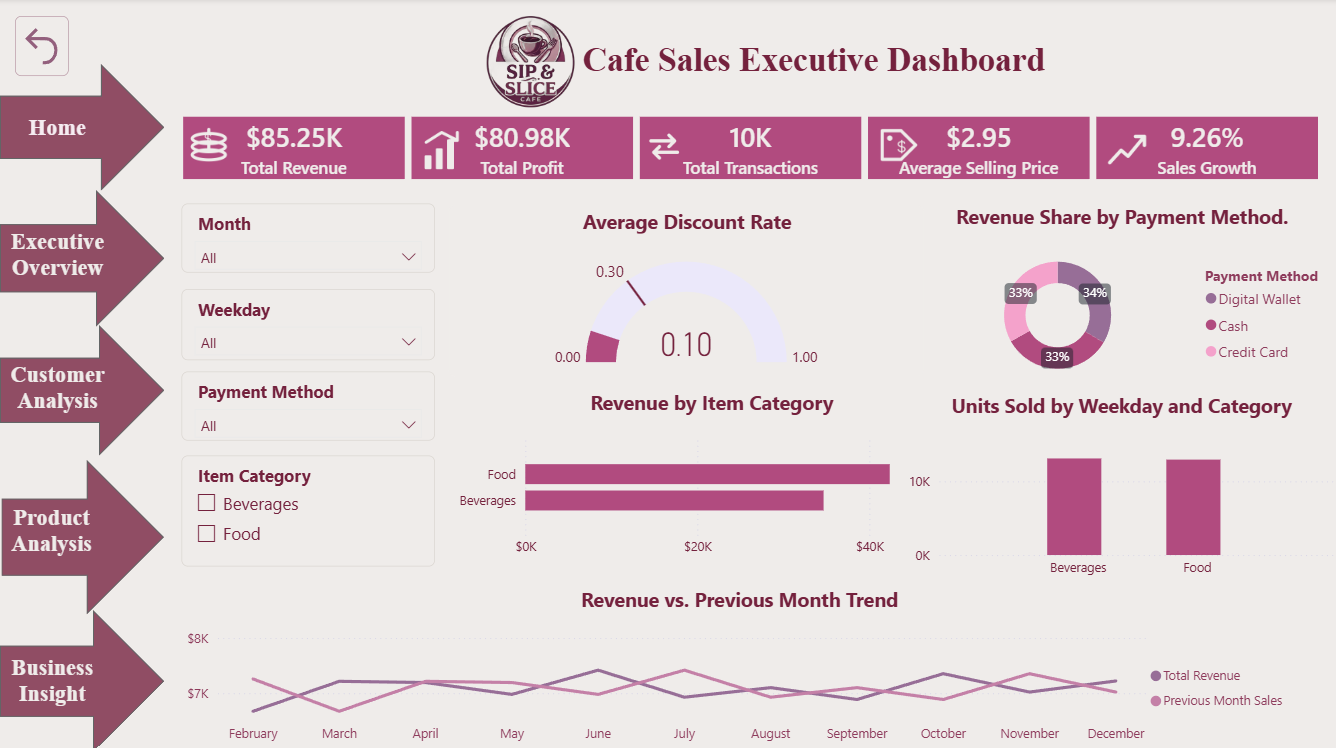

What the dashboard file says about the page in this screenshot:
{"tool":"powerbi","page":{"name":"Executive Overview","canvas":[1280,720],"ordinal":1},"visuals":[{"type":"group","id":"g1","title":"Group 5","box":[0,62.4,156.9,120.9],"z":0,"group":"g6"},{"type":"cardVisual","fields":{"Data":["_Measures.Total Revenue","_Measures.Total Profit","_Measures.Total Transactions","_Measures.Average Selling Price","_Measures.Sales Growth"]},"box":[156.9,96.4,1122.5,94.5],"z":0,"group":"g8"},{"type":"image","box":[173.9,104,49.1,66.1],"z":0,"group":"g9"},{"type":"lineChart","title":"Revenue vs. Previous Month Trend","fields":{"Category":["Dim_Date.Month"],"Y":["_Measures.Total Revenue","_Measures.Previous Month Sales"]},"box":[173.9,561.3,1065.8,158.7],"z":0},{"type":"image","box":[391.2,122.9,58.6,47.2],"z":1000,"group":"g9"},{"type":"group","id":"g2","title":"Group 6","box":[0,183.3,156.9,130.4],"z":1000,"group":"g6"},{"type":"barChart","title":"\tRevenue by Item Category","fields":{"Category":["Cafe_Sales.Item Category"],"Y":["_Measures.Total Revenue"]},"box":[429,374.2,502.7,168.2],"z":1000},{"type":"image","box":[610.4,115.3,45.4,54.8],"z":2000,"group":"g9"},{"type":"group","id":"g3","title":"Group 7","box":[0,311.9,156.9,124.7],"z":2000,"group":"g6"},{"type":"clusteredColumnChart","title":"Units Sold by Weekday and Category","fields":{"Category":["Dim_Date.Weekday","Cafe_Sales.Item Category"],"Y":["_Measures.Total Units Sold"]},"box":[861.7,376.1,417.6,185.2],"z":2000},{"type":"image","box":[831.5,115.3,51,54.8],"z":3000,"group":"g9"},{"type":"donutChart","title":"Revenue Share by Payment Method.","fields":{"Category":["Cafe_Sales.Payment Method"],"Y":["_Measures.Total Revenue"]},"box":[863.6,196.5,415.8,177.6],"z":3000},{"type":"group","id":"g4","title":"Group 8","box":[0,584,156.9,136.1],"z":3000,"group":"g6"},{"type":"image","box":[1048.9,122.9,52.9,47.2],"z":4000,"group":"g9"},{"type":"gauge","title":"Average Discount Rate","fields":{"Y":["_Measures.Discount Rate"]},"box":[428.2,197.2,454.1,163.3],"z":4000},{"type":"group","id":"g5","title":"Group 9","box":[0,440.4,156.9,147.4],"z":4000,"group":"g6"},{"type":"slicer","fields":{"Values":["Dim_Date.Month"]},"box":[173.9,196.5,241.9,66.1],"z":5000},{"type":"slicer","fields":{"Values":["Cafe_Sales.Item Category"]},"box":[173.9,436.5,241.9,105.8],"z":6000},{"type":"slicer","fields":{"Values":["Cafe_Sales.Payment Method"]},"box":[173.9,357.2,241.9,66.1],"z":7000},{"type":"slicer","fields":{"Values":["Dim_Date.Weekday"]},"box":[173.9,277.8,241.9,68],"z":8000},{"type":"group","id":"g6","title":"Group 1","box":[0,62.4,156.9,657.6],"z":9000},{"type":"group","id":"g7","title":"Group 2","box":[273.6,17.2,1007,87.4],"z":10000},{"type":"group","id":"g8","title":"Group 4","box":[156.9,96.4,1122.5,94.5],"z":11000},{"type":"group","id":"g9","title":"Group 3","box":[173.9,104,927.9,66.1],"z":11006,"group":"g8"},{"type":"actionButton","box":[0,0,51.5,57.5],"z":12000},{"type":"textbox","box":[273.6,17.2,1007,87.4],"z":17000,"group":"g7"},{"type":"image","box":[415.3,17.2,183.3,87.4],"z":18000,"group":"g7"},{"type":"shape","box":[0,584,156.9,136.1],"z":19000,"group":"g4"},{"type":"shape","box":[0,62.4,156.9,120.9],"z":20000,"group":"g1"},{"type":"shape","box":[0,311.9,156.9,124.7],"z":21000,"group":"g3"},{"type":"shape","box":[0,183.3,156.9,130.4],"z":22000,"group":"g2"},{"type":"shape","box":[1.7,440.4,155.1,147.4],"z":23000,"group":"g5"},{"type":"textbox","box":[0,104.9,109.6,39.7],"z":23005,"group":"g1"},{"type":"textbox","box":[0,214.4,110,64.2],"z":23007,"group":"g2"},{"type":"textbox","box":[0,342.1,110,66.4],"z":23009,"group":"g3"},{"type":"textbox","box":[0,477.4,98.8,64.1],"z":23011,"group":"g5"},{"type":"textbox","box":[0,620.9,100.2,70],"z":23012,"group":"g4"}]}

Visuals, with their boxes in screenshot pixels (x1, y1, x2, y2), scaled from the page's 1280x720 canvas onto the 1336x748 screenshot:
"Group 5" group: x1=0 y1=65 x2=164 y2=190
cardVisual - _Measures.Total Revenue x _Measures.Total Profit: x1=164 y1=100 x2=1335 y2=198
image: x1=182 y1=108 x2=233 y2=177
"Revenue vs. Previous Month Trend" lineChart: x1=182 y1=583 x2=1294 y2=747
image: x1=408 y1=128 x2=469 y2=177
"Group 6" group: x1=0 y1=190 x2=164 y2=326
"	Revenue by Item Category" barChart: x1=448 y1=389 x2=972 y2=563
image: x1=637 y1=120 x2=684 y2=177
"Group 7" group: x1=0 y1=324 x2=164 y2=454
"Units Sold by Weekday and Category" clusteredColumnChart: x1=899 y1=391 x2=1335 y2=583
image: x1=868 y1=120 x2=921 y2=177
"Revenue Share by Payment Method." donutChart: x1=901 y1=204 x2=1335 y2=389
"Group 8" group: x1=0 y1=607 x2=164 y2=747
image: x1=1095 y1=128 x2=1150 y2=177
"Average Discount Rate" gauge: x1=447 y1=205 x2=921 y2=375
"Group 9" group: x1=0 y1=458 x2=164 y2=611
slicer - Dim_Date.Month: x1=182 y1=204 x2=434 y2=273
slicer - Cafe_Sales.Item Category: x1=182 y1=453 x2=434 y2=563
slicer - Cafe_Sales.Payment Method: x1=182 y1=371 x2=434 y2=440
slicer - Dim_Date.Weekday: x1=182 y1=289 x2=434 y2=359
"Group 1" group: x1=0 y1=65 x2=164 y2=747
"Group 2" group: x1=286 y1=18 x2=1335 y2=109
"Group 4" group: x1=164 y1=100 x2=1335 y2=198
"Group 3" group: x1=182 y1=108 x2=1150 y2=177
actionButton: x1=0 y1=0 x2=54 y2=60
textbox: x1=286 y1=18 x2=1335 y2=109
image: x1=433 y1=18 x2=625 y2=109
shape: x1=0 y1=607 x2=164 y2=747
shape: x1=0 y1=65 x2=164 y2=190
shape: x1=0 y1=324 x2=164 y2=454
shape: x1=0 y1=190 x2=164 y2=326
shape: x1=2 y1=458 x2=164 y2=611
textbox: x1=0 y1=109 x2=114 y2=150
textbox: x1=0 y1=223 x2=115 y2=289
textbox: x1=0 y1=355 x2=115 y2=424
textbox: x1=0 y1=496 x2=103 y2=563
textbox: x1=0 y1=645 x2=105 y2=718
